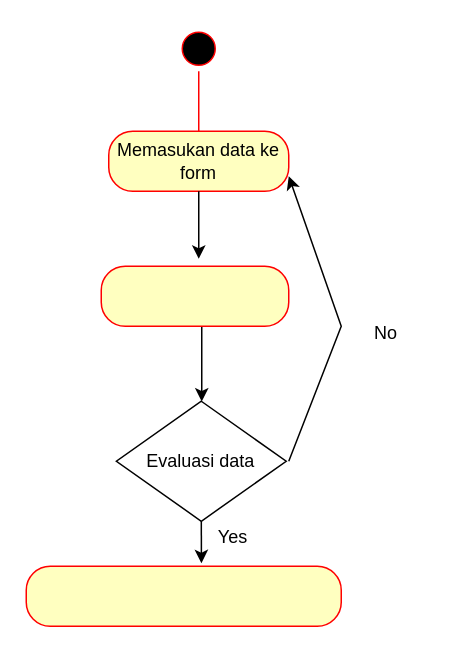
The diagram is 458 pixels wide and 653 high, and some of its shapes have lost their labels. The shapes that lost their labels are listed below. From the top down, each one's centre as x and y in pixels, then its label:
At (194,295): "Diagnosa sementara".
At (183,595): "Notifikasi form berhasil ditambahkan".
